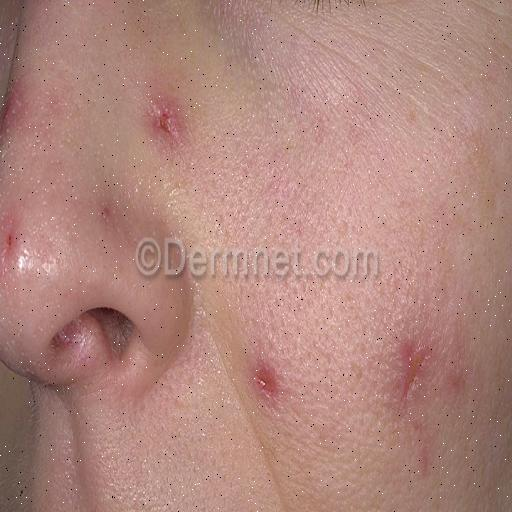Skin_Lesion: (396, 326, 472, 476), (146, 91, 194, 156), (252, 352, 294, 414), (0, 84, 14, 136), (3, 226, 24, 260), (100, 197, 120, 227)
